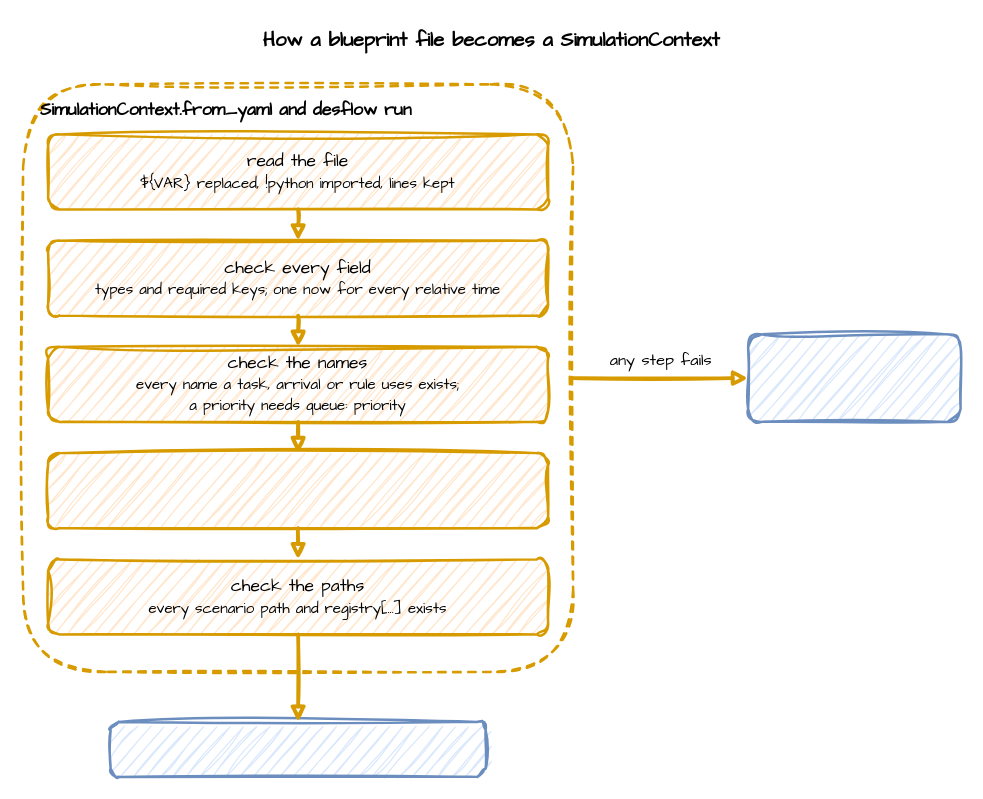
Image size: 983x799. Some labels were removed from this diagram. The centre of each missing label's shape, as x and y in pixels:
"BlueprintError file:line: what is wrong" belongs at point 853,377.
"build the context the builder calls a script would make" belongs at point 297,490.
"SimulationContext, ready to run" belongs at point 297,749.
